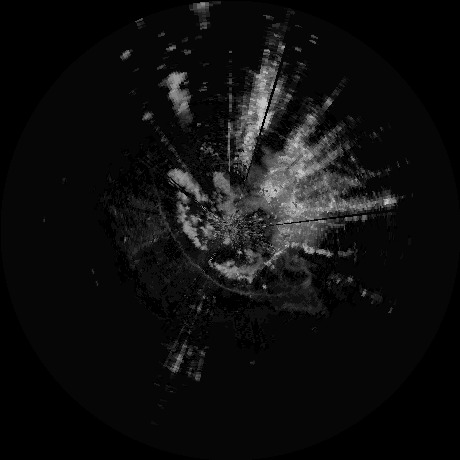frontgust: (155, 193, 176, 243)
